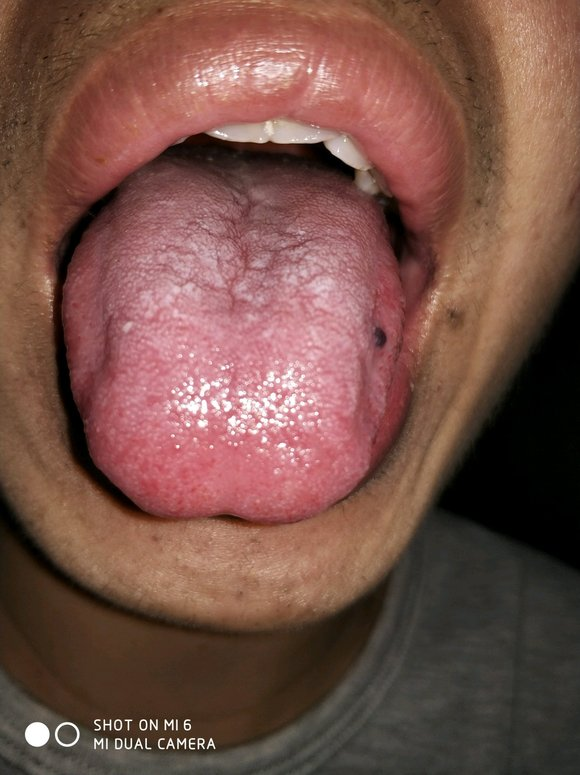baitaishe: (61, 157, 406, 522)
gandanao: (61, 184, 125, 421)
hongshe: (61, 157, 406, 522)
liewenshe: (184, 164, 314, 317)
pangdashe: (61, 157, 406, 522)
